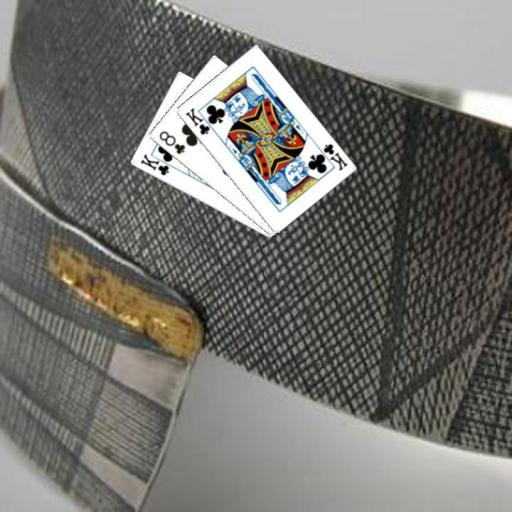8C: (156, 127, 186, 156)
KC: (182, 105, 217, 137), (314, 140, 349, 172), (138, 150, 177, 177)
